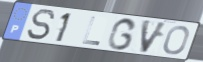1: (55, 12, 74, 43)
G: (106, 17, 139, 51)
L: (80, 15, 102, 47)
O: (162, 25, 191, 56)
S: (26, 8, 57, 42)
V: (139, 18, 170, 55)
